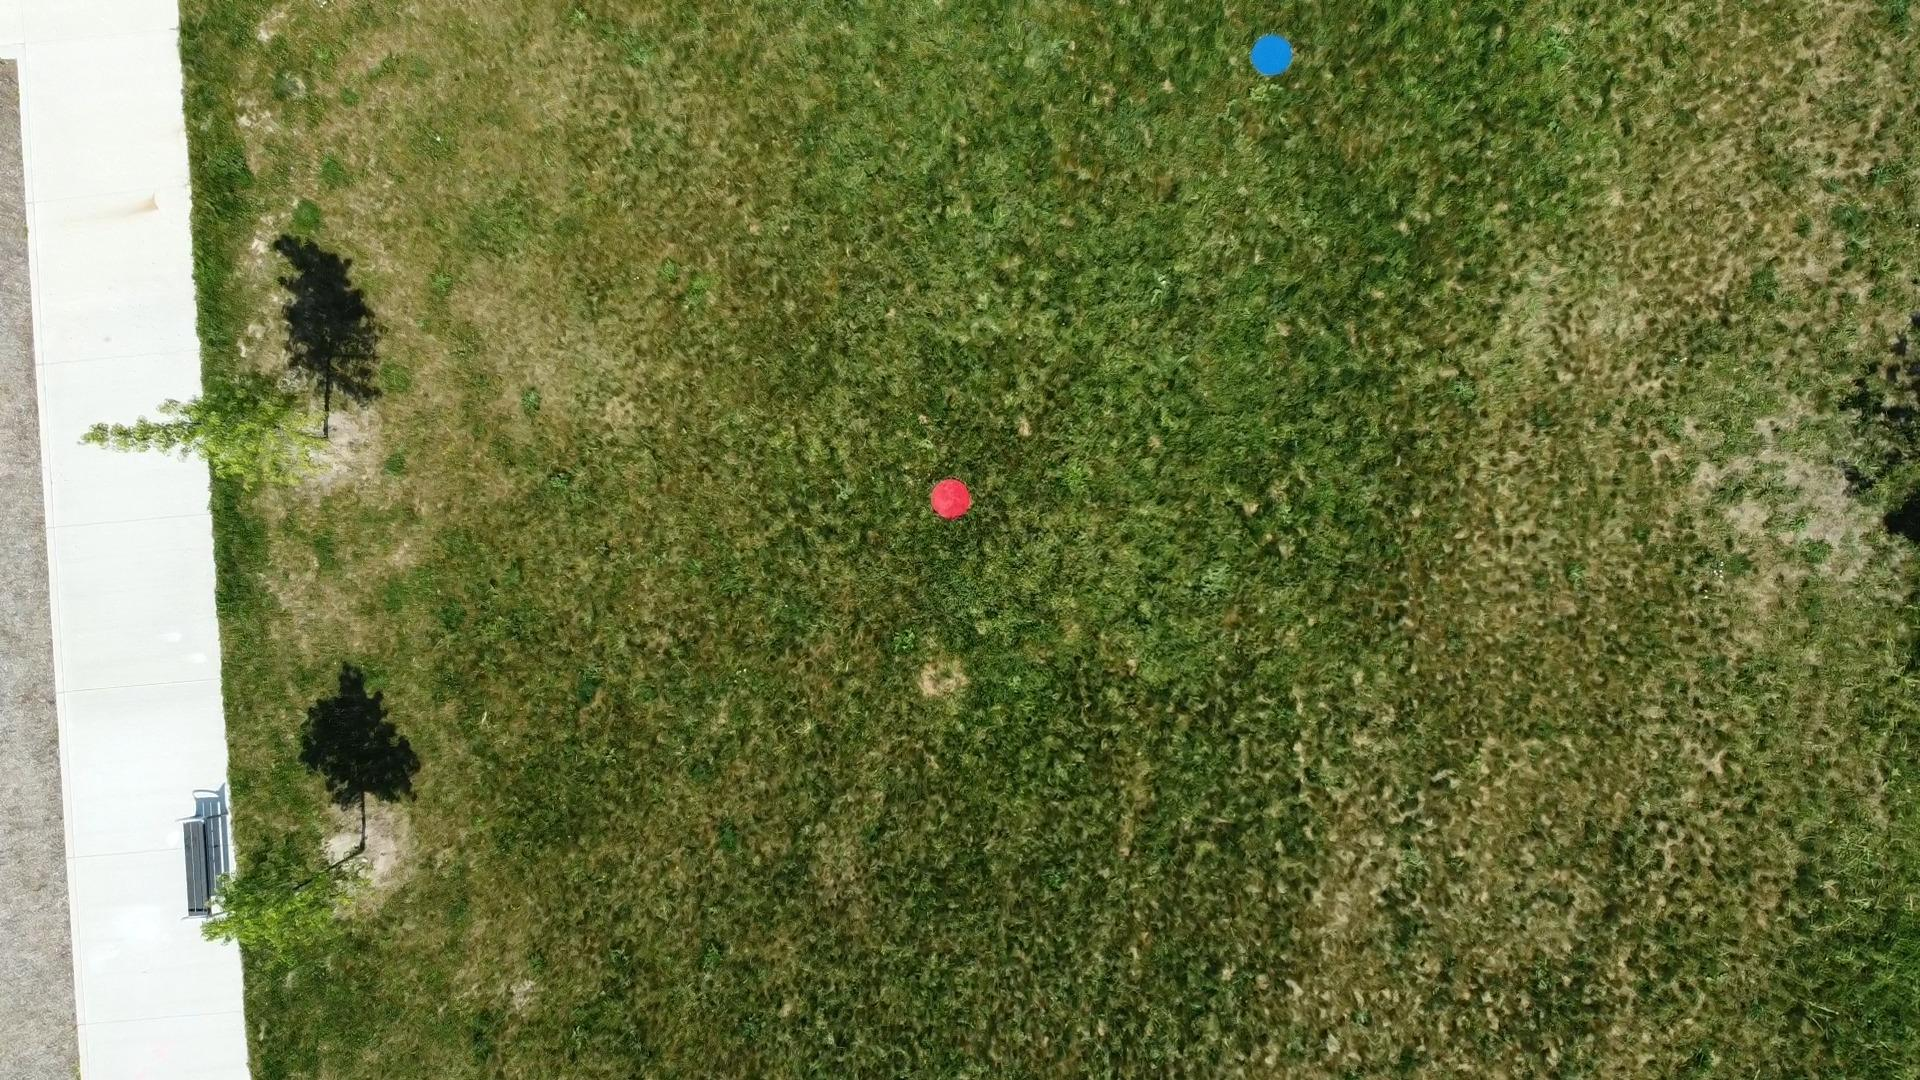Blue: (1249, 33, 1296, 79)
Red: (928, 477, 975, 522)
